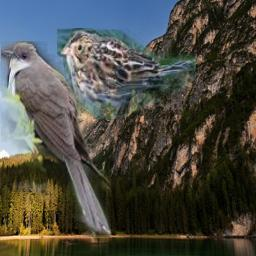Cuckoo: (1, 41, 111, 237)
Sparrow: (57, 28, 196, 119)
